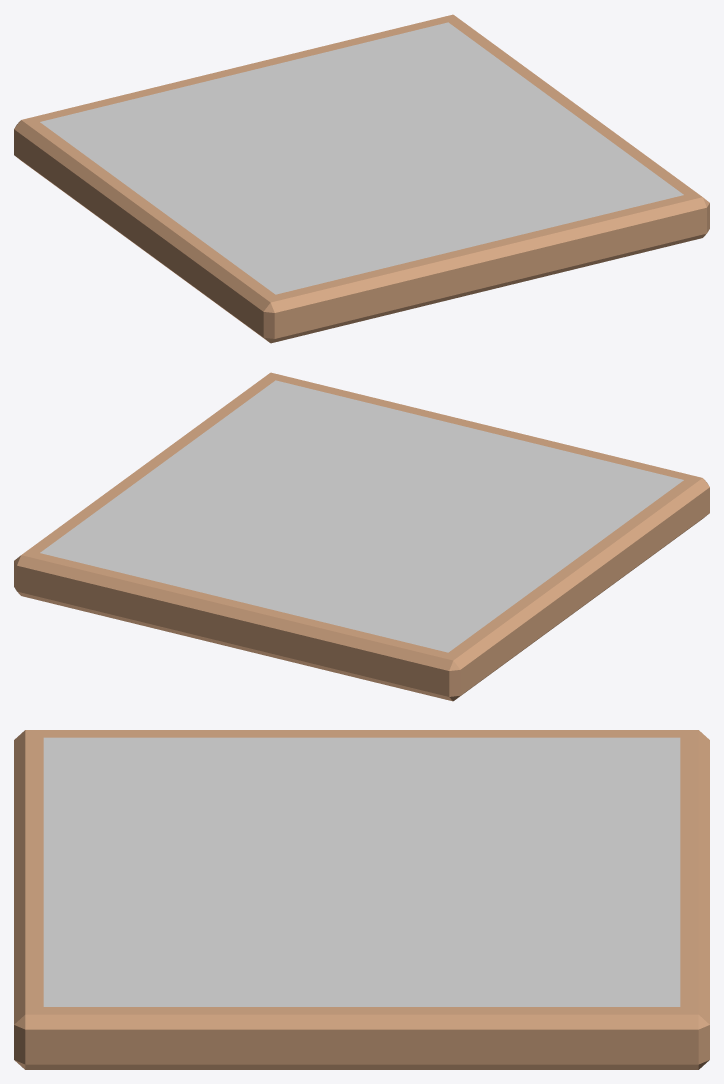
File: ChessBoard.fbx
The picture shows the model from 3 angles, top to bottom: view 1: azimuth 30°, elevation 25°; view 2: azimuth 150°, elevation 25°; view 3: azimuth 270°, elevation 25°; orthographic projection. The views are drawn at different scales.
Visible parts, largest first — view 1: Cube.1574; view 2: Cube.1574; view 3: Cube.1574.
Boxes of the visible parts, box(x1,y1,x2,y2) form: Cube.1574: box(14, 14, 709, 343); Cube.1574: box(14, 372, 709, 701); Cube.1574: box(14, 730, 709, 1069).
Size of the model in its own units: 17.74 by 1.55 by 17.74.
